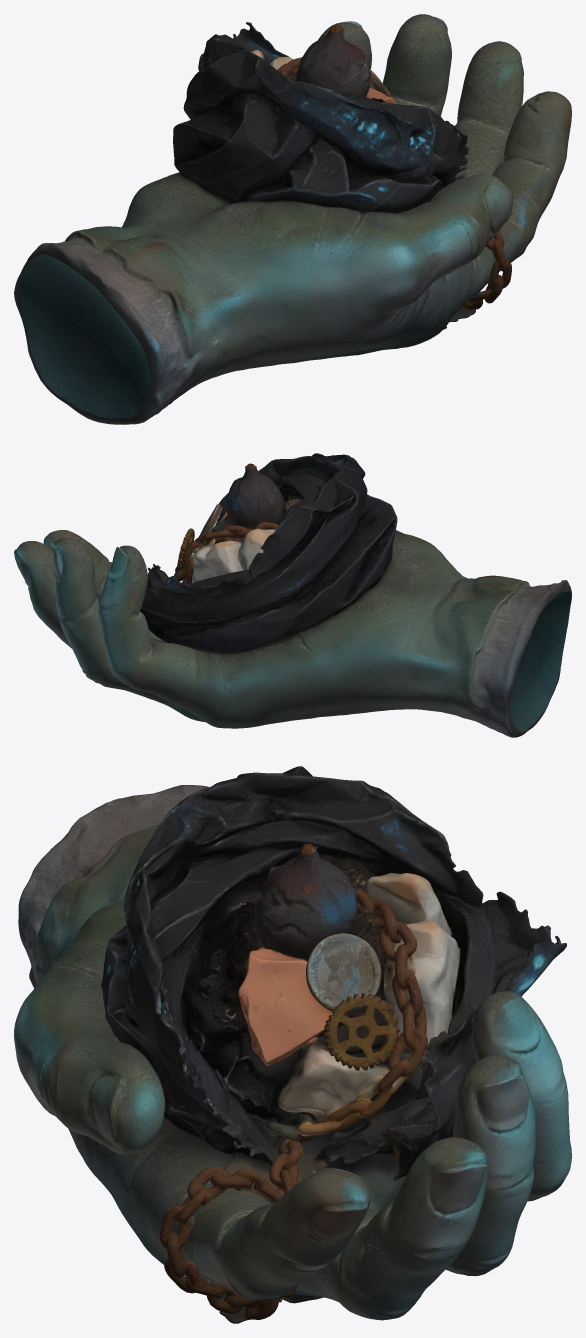
Rendered from 28a-history-dump.glb.
3 views of the same model, one above another, from view 1: azimuth 30°, elevation 25°; view 2: azimuth 150°, elevation 25°; view 3: azimuth 270°, elevation 25° (orthographic). The views are drawn at different scales.
Parts seen in each view (by area): view 1: tripo_node_bae103bd-0542-4e33-bc4f-d3da4a3b1664; view 2: tripo_node_bae103bd-0542-4e33-bc4f-d3da4a3b1664; view 3: tripo_node_bae103bd-0542-4e33-bc4f-d3da4a3b1664.
Part boxes in pixels (box(x1,y1,x2,y2)): tripo_node_bae103bd-0542-4e33-bc4f-d3da4a3b1664: box(14, 14, 571, 424); tripo_node_bae103bd-0542-4e33-bc4f-d3da4a3b1664: box(14, 453, 571, 737); tripo_node_bae103bd-0542-4e33-bc4f-d3da4a3b1664: box(14, 766, 571, 1323).
Bounding box in the file's own units: 1 × 0.5199 × 0.6193.
Materials: 1 (1 with a texture image).
